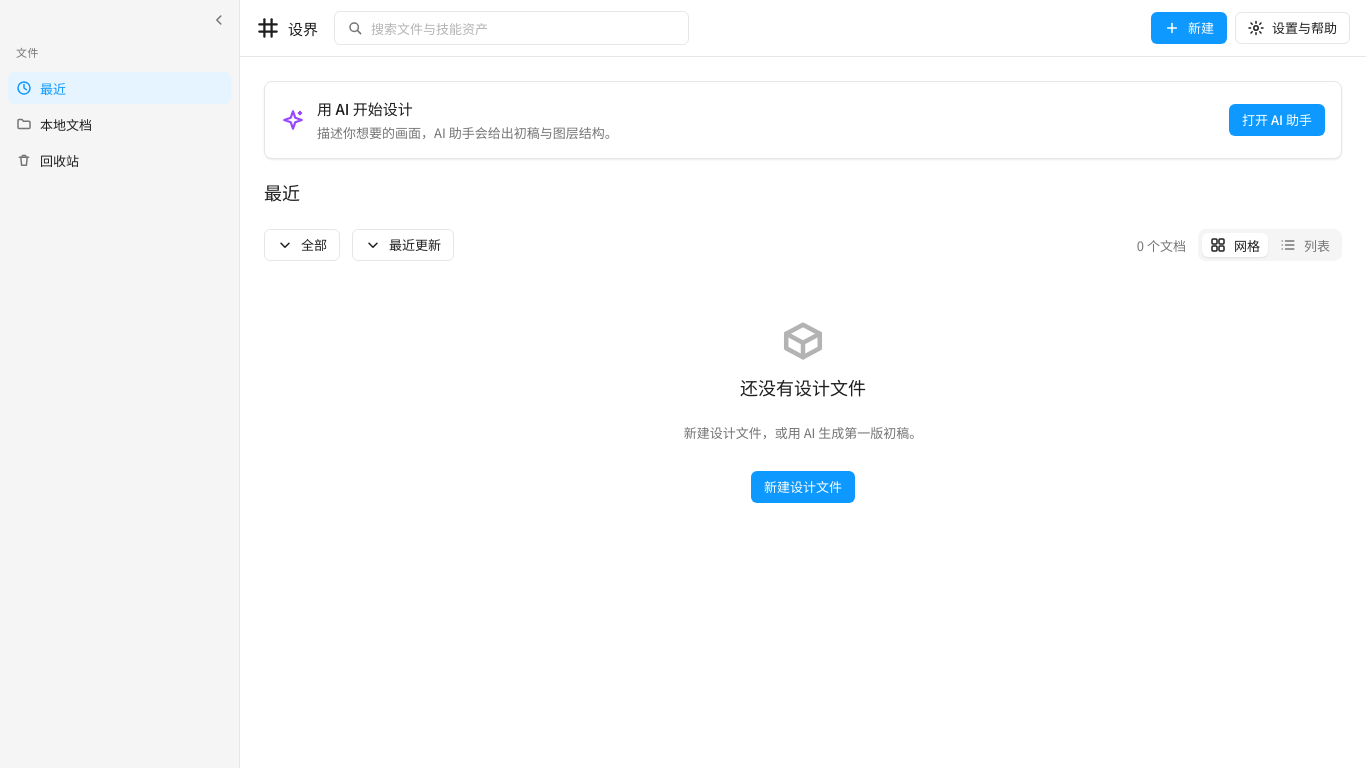
Test: HomeView · 新建与打开 › 新建：对话框提交 → 调 daemon → Toast + 新卡片出现
Check: the text "还没有设计文件" is shown, box [740,377,866,399]
Click the button "新建设计文件".
click(803, 487)  # box [751,471,855,503]
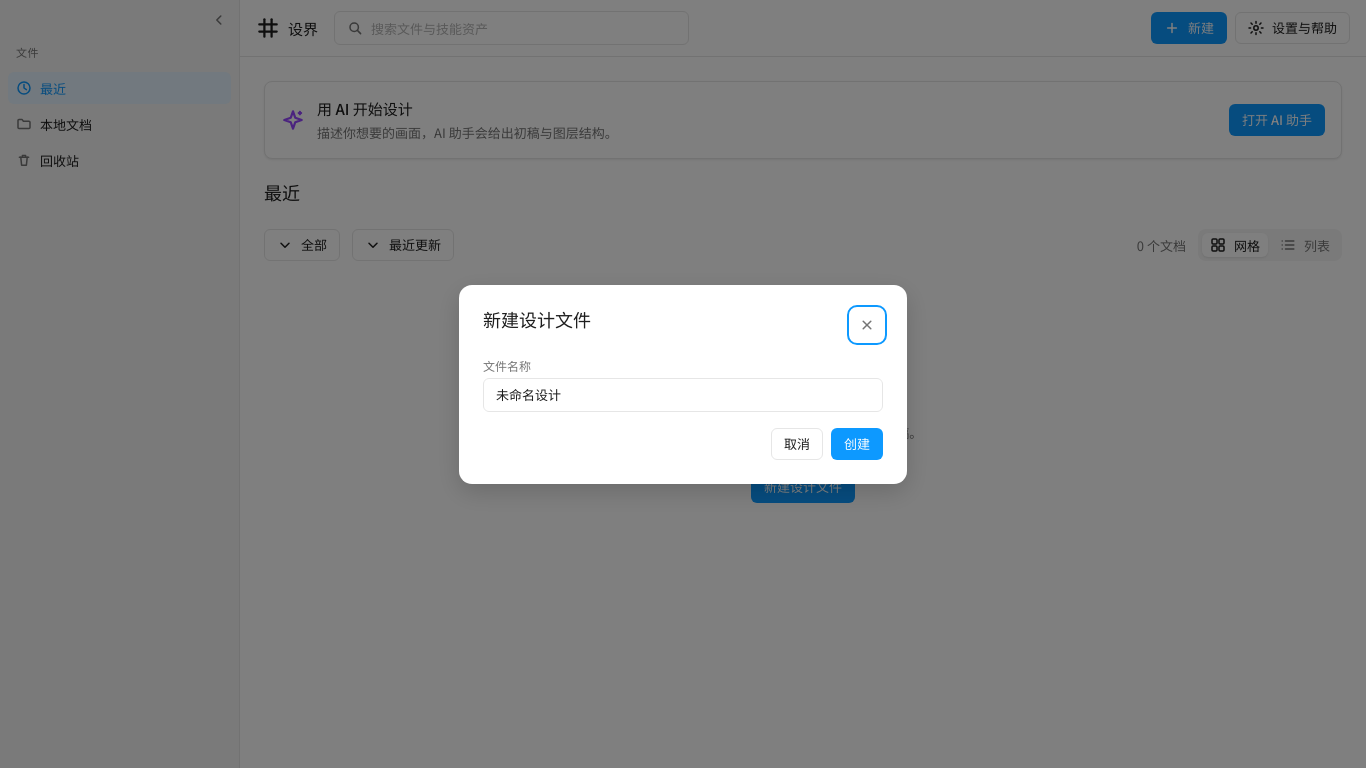
Clear the field labelled "文件名称" at x=683, y=394, box [496,378,870,410]
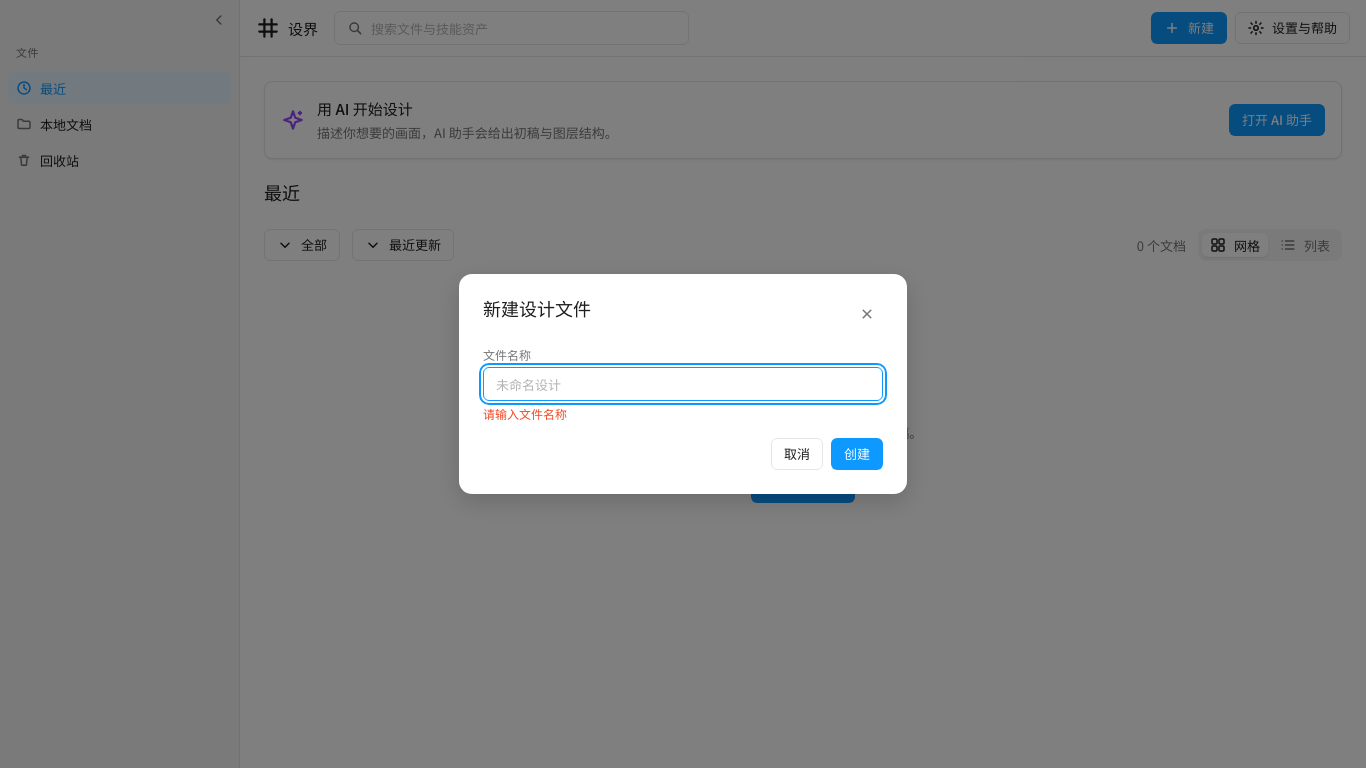
Type "海报 B" into the field labelled "文件名称".
click(683, 384); type("海报 B")  # box [496,368,870,400]
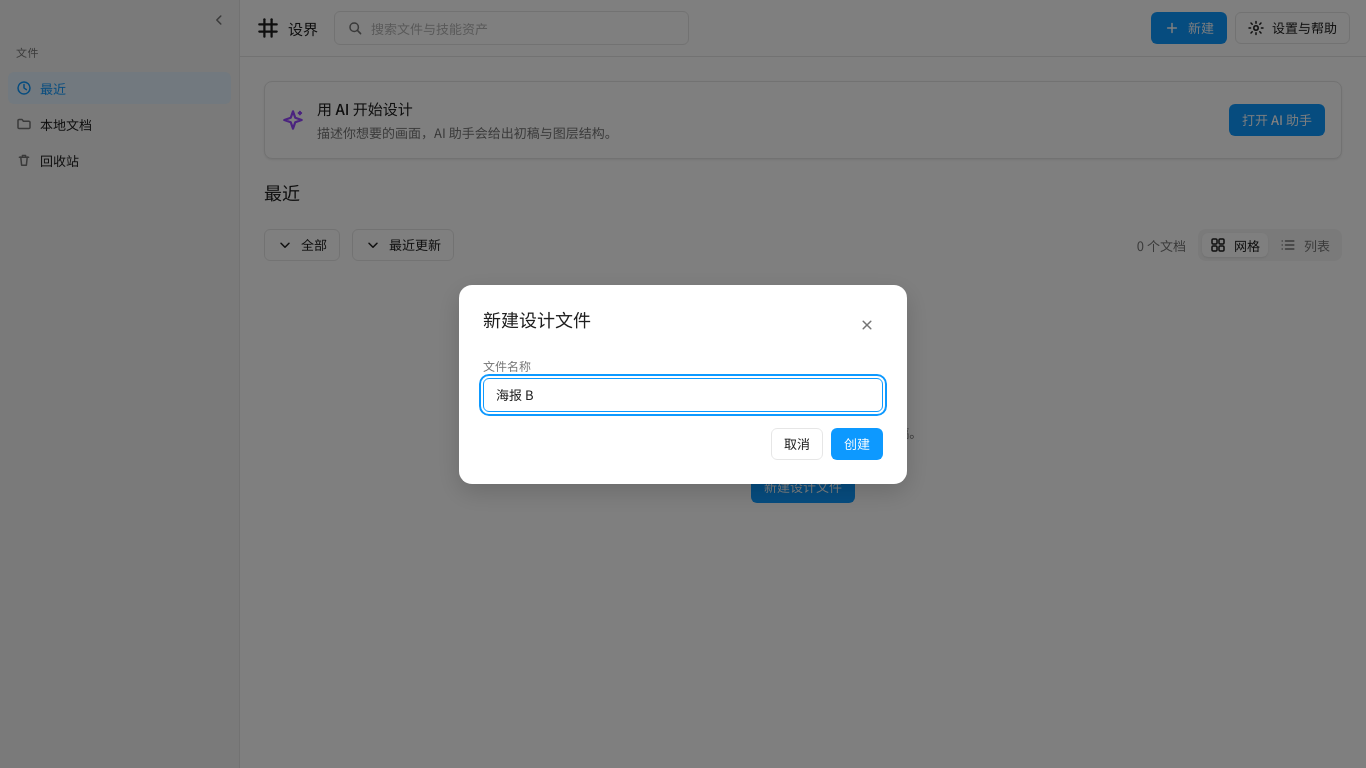
Click the button "创建".
click(857, 444)  # box [831,428,883,460]
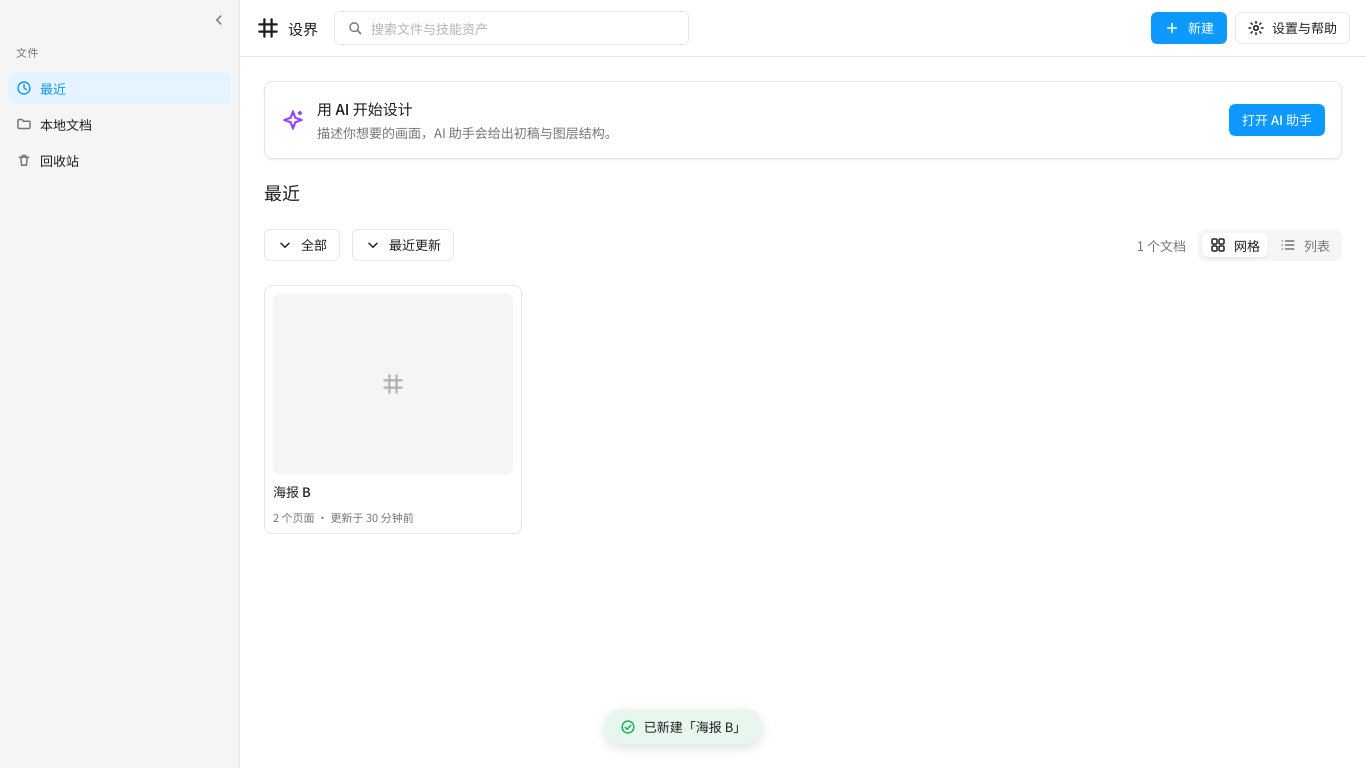
Check: the text "已新建「海报 B」" is shown, box [644,717,746,736]
Check: the link with aria-label "打开「海报 B」" is shown, box [264,285,522,534]
